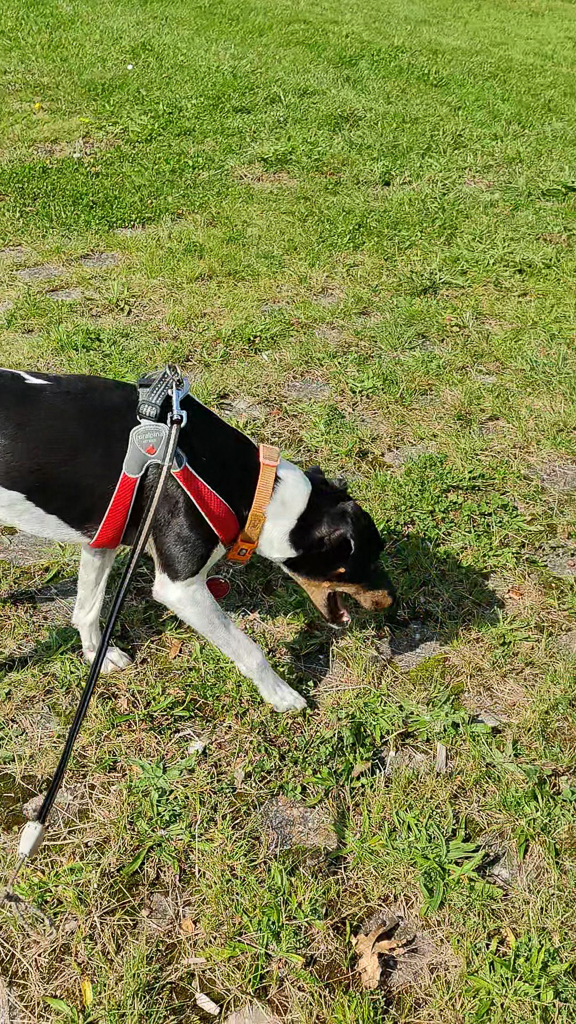Dog: (0, 358, 435, 729)
